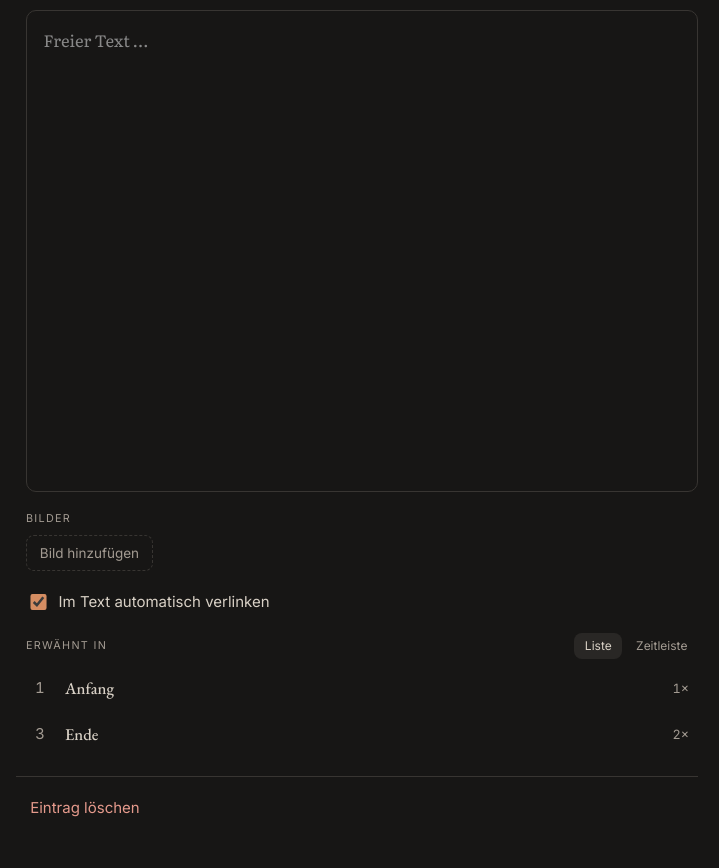
Test case: the timeline shows every appearance in chapter order, with the gaps between
(page scrolled)
Click the button "Zeitleiste". click: {"x": 662, "y": 646}
box: [626,633,698,659]
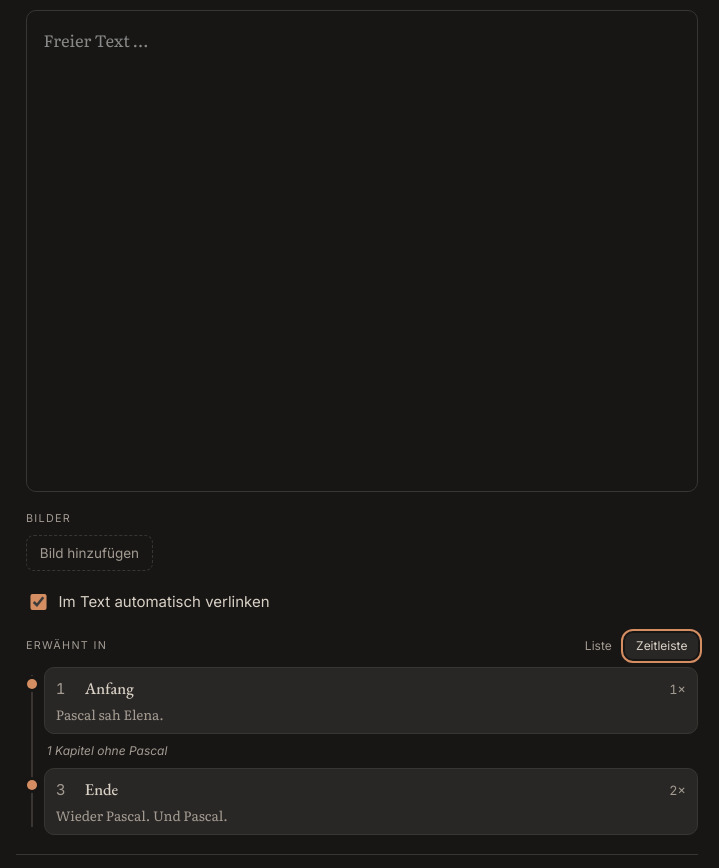
Check: the list item "1 Kapitel ohne Pascal" is shown, box [47,743,167,758]
Click the button "3 Ende 2× Wieder Pascal. Und Pascal.". click: {"x": 102, "y": 789}
box: [44,768,698,835]
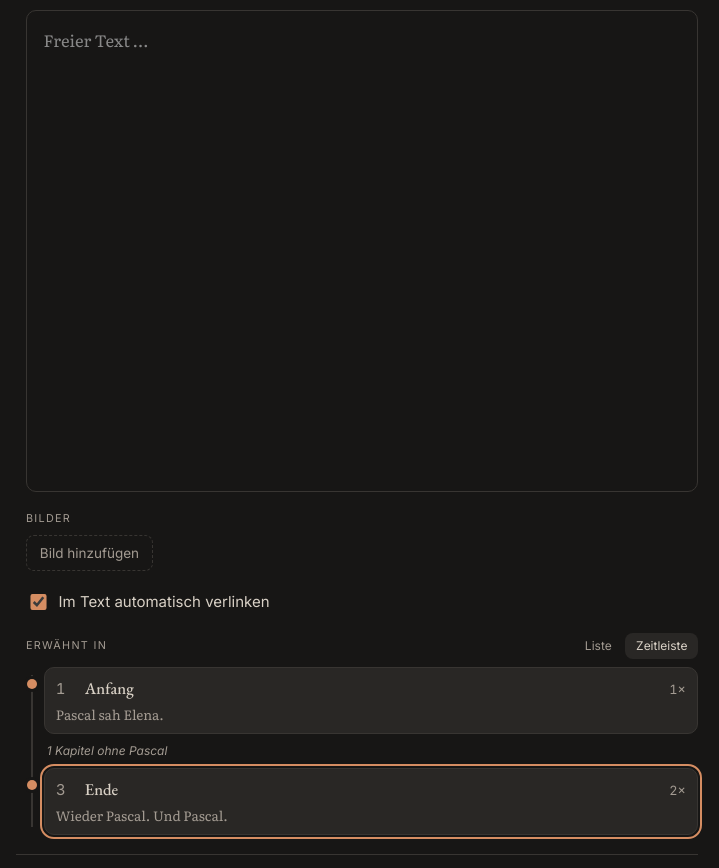
Click the button "Liste". click: {"x": 598, "y": 646}
box: [574,633,622,659]
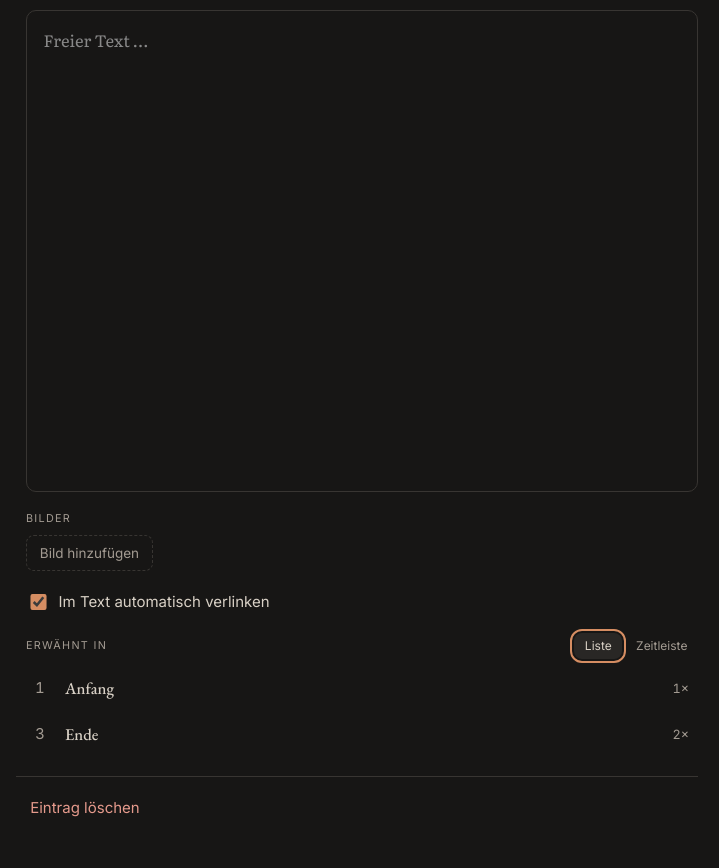
Check: the list named "Erwähnt in" is shown, box [26,667,698,757]
